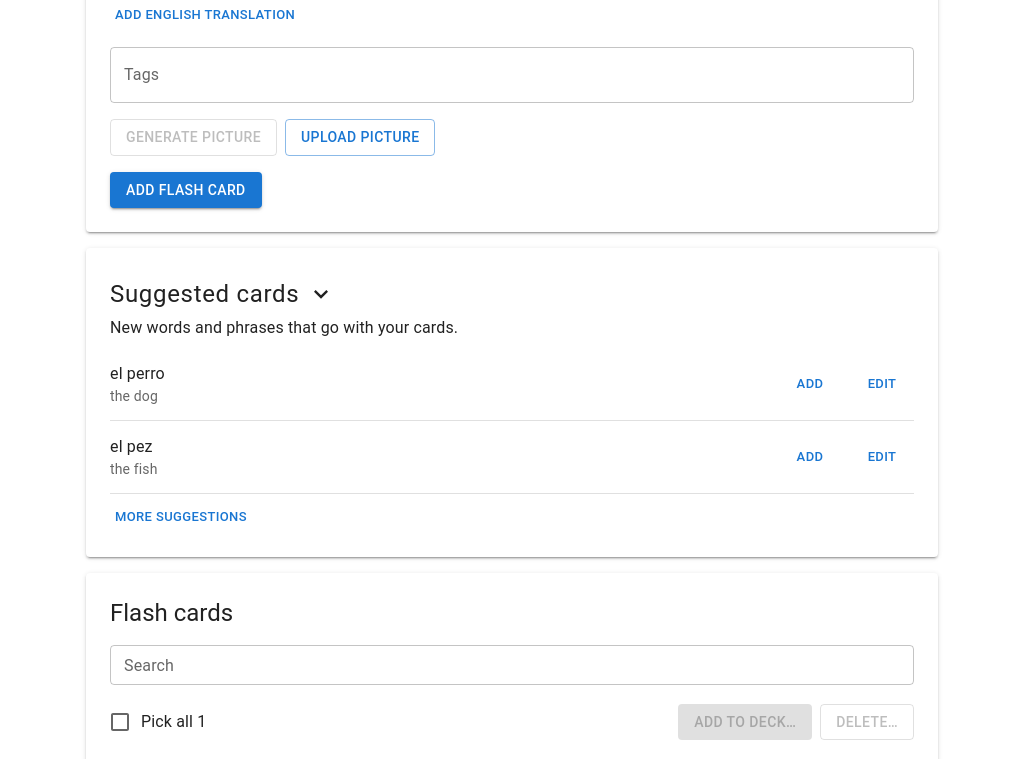
Test: suggested cards › adds a suggestion as a card and takes it off the suggestions
(page scrolled)
Expected: the list named "Suggested cards" is shown, [110,348,914,494]
What coordinates should you click on to do the following:
click the button named "Add \"el perro\""
I would click on:
 (810, 384)
Its box is [778,369,842,400].
(page scrolled)
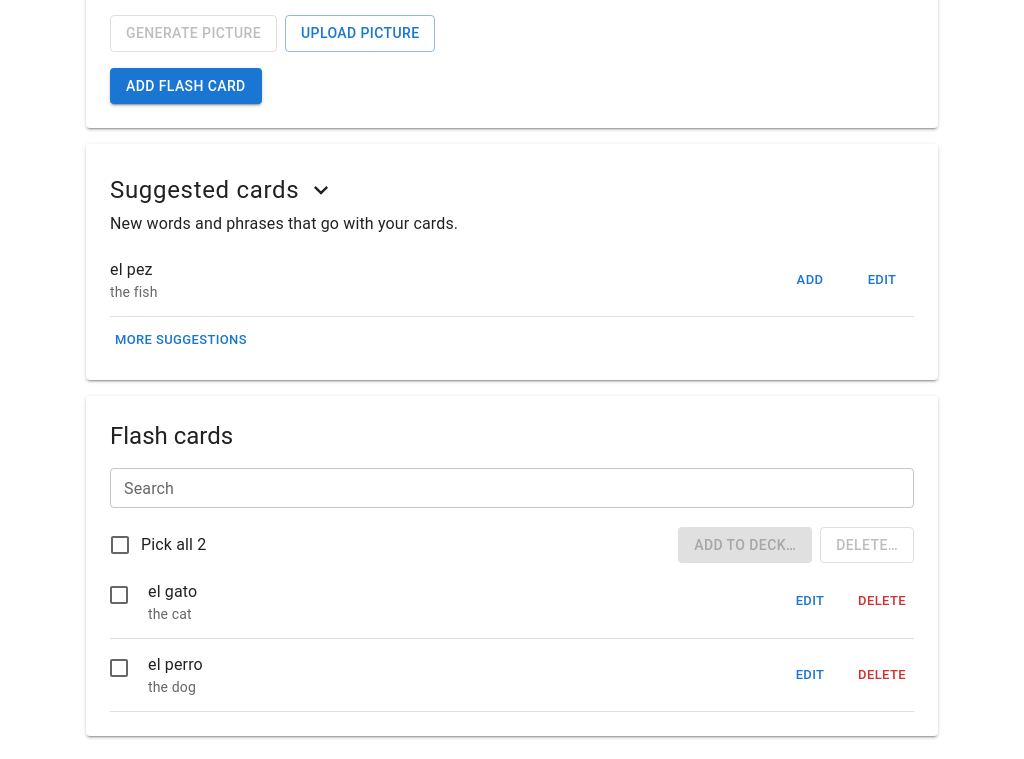
Expected: the list named "Suggested cards" shows "el pez", [110,260,153,279]
Expected: the button named "Edit \"el perro\"" is shown, [778,660,842,690]
